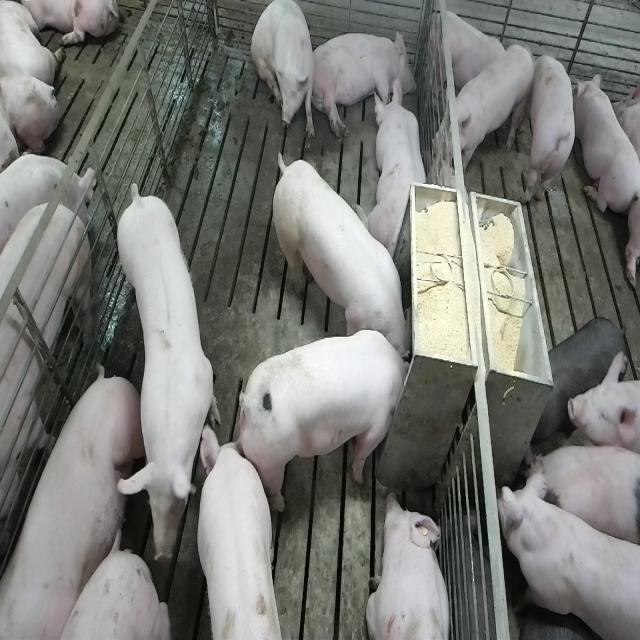Feeding: (242, 328, 420, 513), (268, 144, 410, 360)
Lateral_lying: (309, 27, 417, 141)
Sitting: (251, 2, 318, 141)
Standing: (0, 196, 95, 640), (113, 186, 220, 522), (497, 472, 638, 640), (200, 431, 289, 640), (523, 441, 637, 550), (440, 47, 535, 173), (538, 316, 626, 426), (523, 47, 578, 215)
Sternal_lying: (365, 490, 453, 640), (361, 79, 431, 261), (574, 67, 638, 217), (426, 4, 511, 97)
